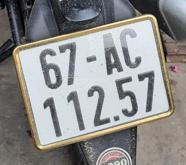1: (42, 96, 64, 139), (66, 89, 86, 132)
2: (87, 84, 111, 127)
5: (115, 75, 139, 117)
6: (39, 48, 63, 90)
7: (58, 41, 78, 88), (139, 69, 157, 113)
A: (102, 30, 125, 77)
C: (121, 27, 142, 70)
